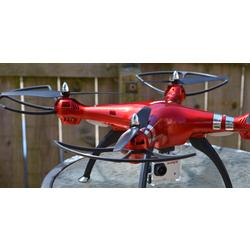drone: (1, 69, 250, 188)
